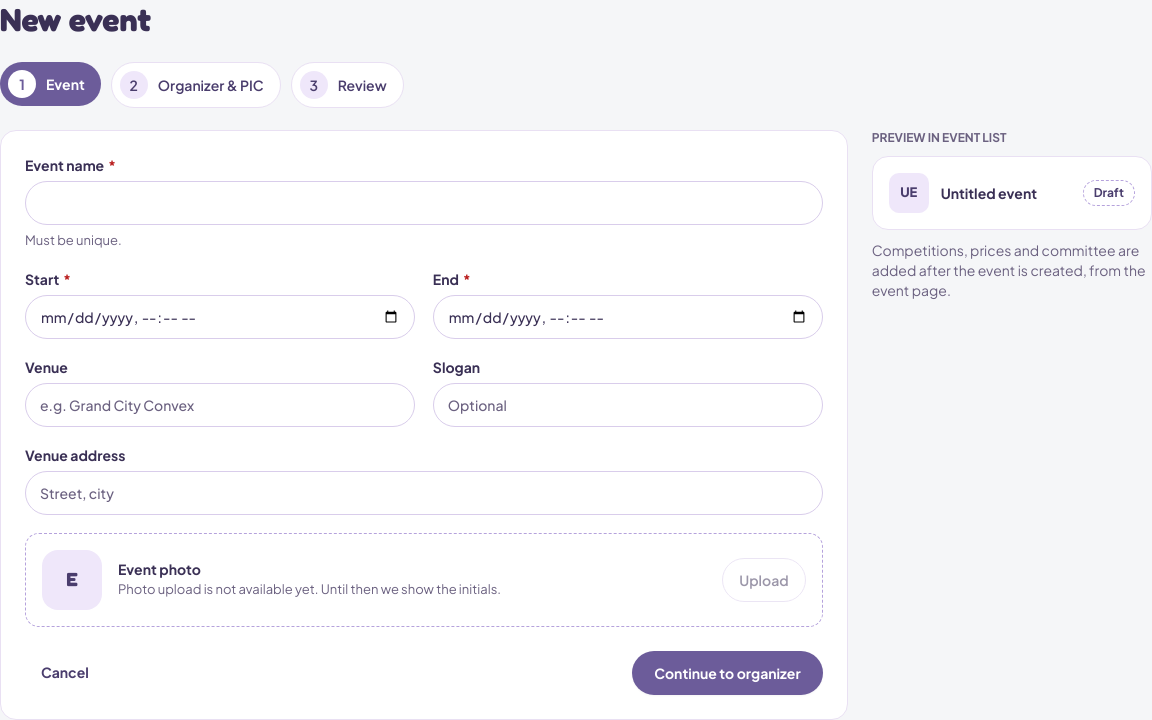
Test: EventCreateWizard › blocks step 1 until the required fields are valid
(page scrolled)
Click the button "Continue to organizer". click: (728, 672)
box: [632, 650, 823, 694]
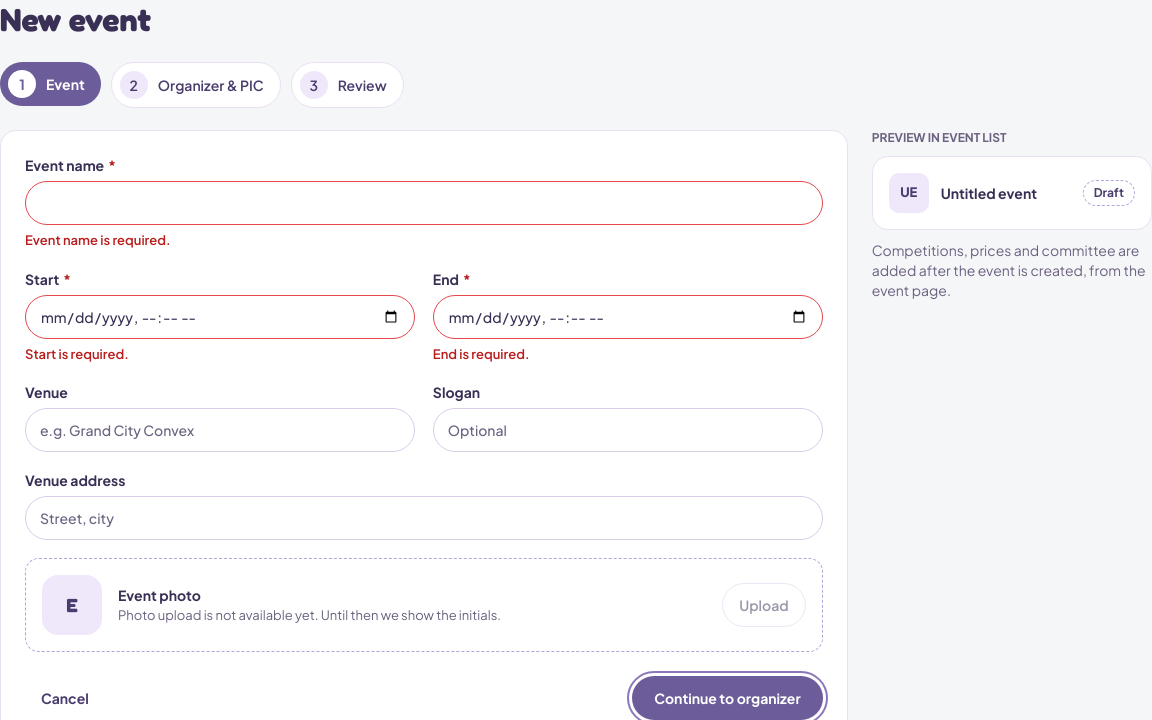
expect the text "Event name is required." is shown: met, box [25, 232, 170, 248]
expect the text "Start is required." is shown: met, box [25, 346, 129, 362]
